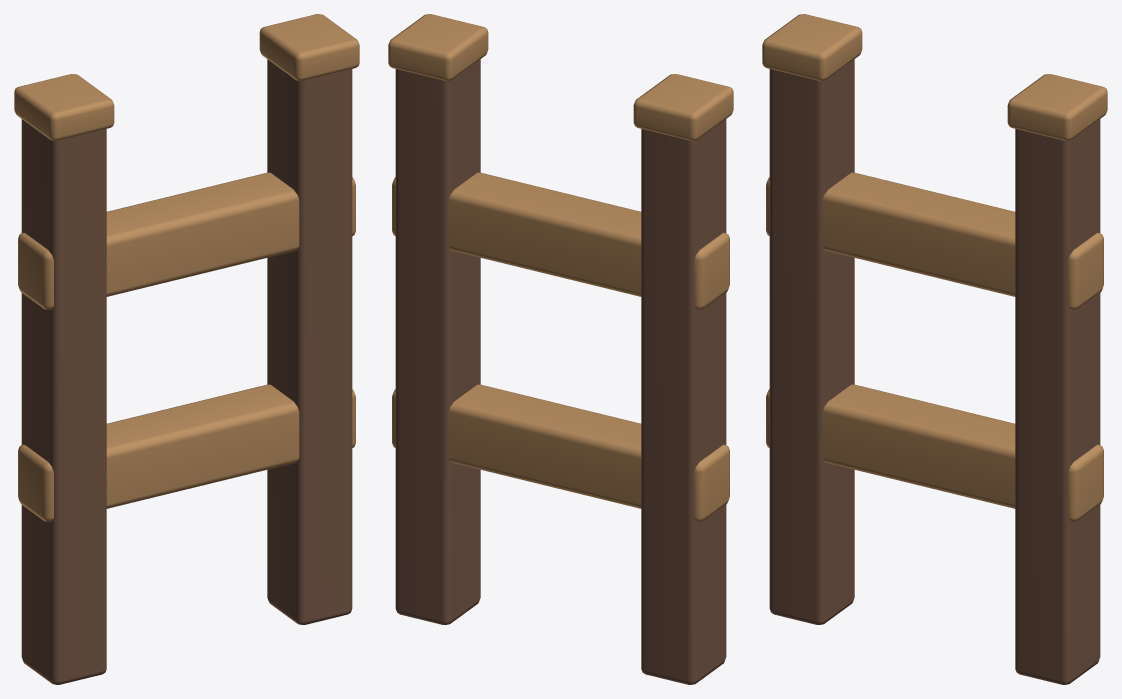
The model's file is fence.wood-new.glb.
3 renders of one model, left to right at view 1: azimuth 30°, elevation 25°; view 2: azimuth 150°, elevation 25°; view 3: azimuth 330°, elevation 25°, orthographic.
Parts seen in each view (by area): view 1: Cedar post; view 2: Cedar post; view 3: Cedar post.
Part boxes in pixels (<box>): Cedar post: <box>14,14,359,684</box>; Cedar post: <box>388,14,733,684</box>; Cedar post: <box>762,14,1107,684</box>.
Bounding box in the file's own units: 0.51 × 0.8975 × 0.115.
